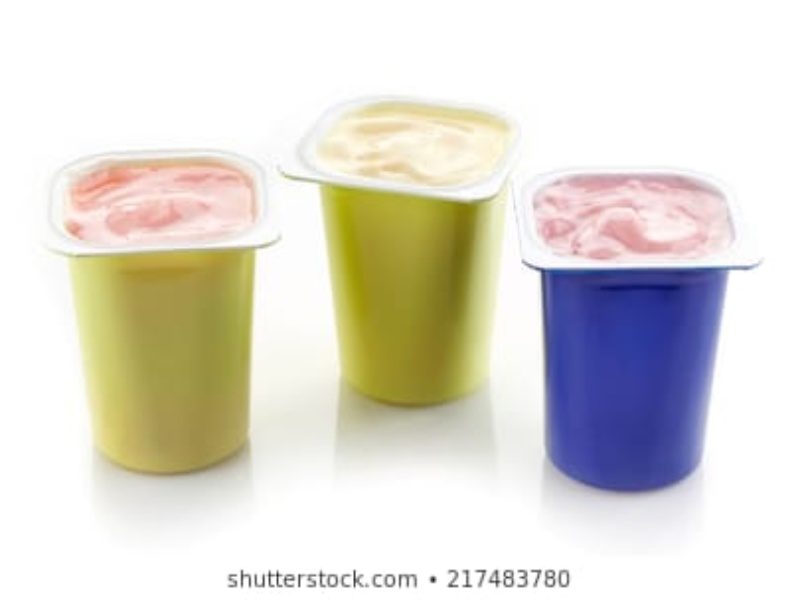yogurt-cup: (498, 145, 744, 492), (278, 89, 533, 422), (43, 143, 272, 475)
